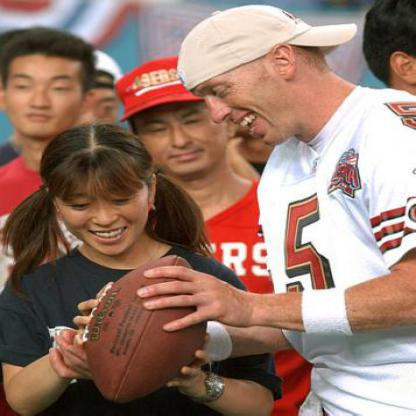face: (182, 21, 292, 158), (55, 137, 154, 258), (133, 72, 225, 179), (2, 37, 87, 138)
